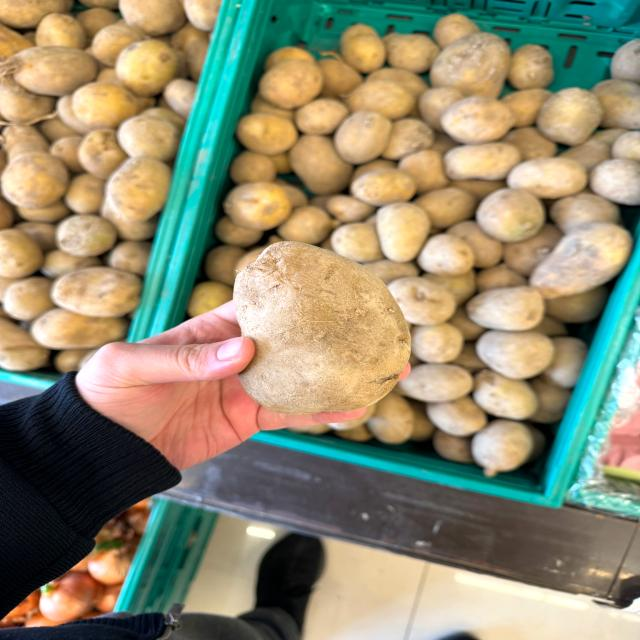potato: (210, 232, 416, 434)
